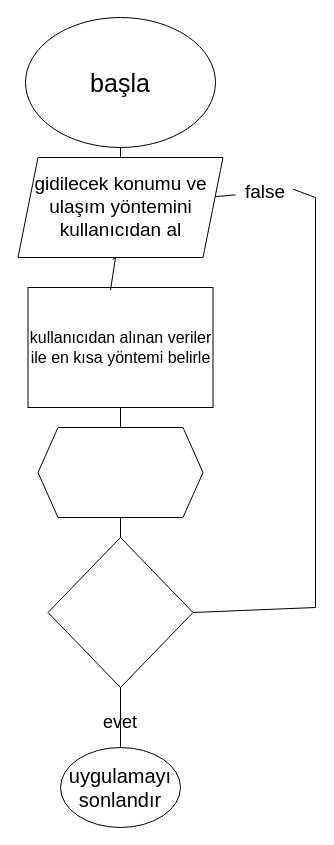
Image size: 334x845. Some labels were removed from this diagram. The shapes that lost their labels are listed below. From the top down, each one's centre as x and y in pixels, then its label:
the point at 120,472: belirlenen rotada ilerle
the point at 120,612: belirlenen hedefe ulaşıldı mı?
